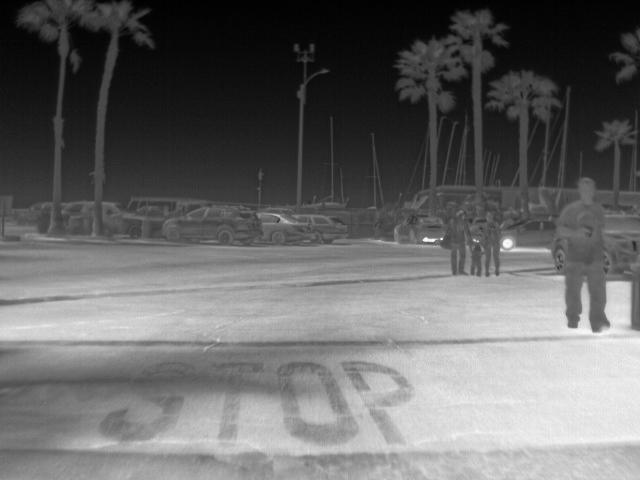car: (161, 199, 264, 242), (497, 214, 561, 248), (287, 214, 346, 246), (255, 211, 308, 245), (101, 199, 141, 239), (393, 214, 442, 244), (58, 200, 95, 214)
person: (556, 179, 615, 333), (442, 206, 473, 277), (479, 212, 499, 276), (464, 236, 483, 276)
